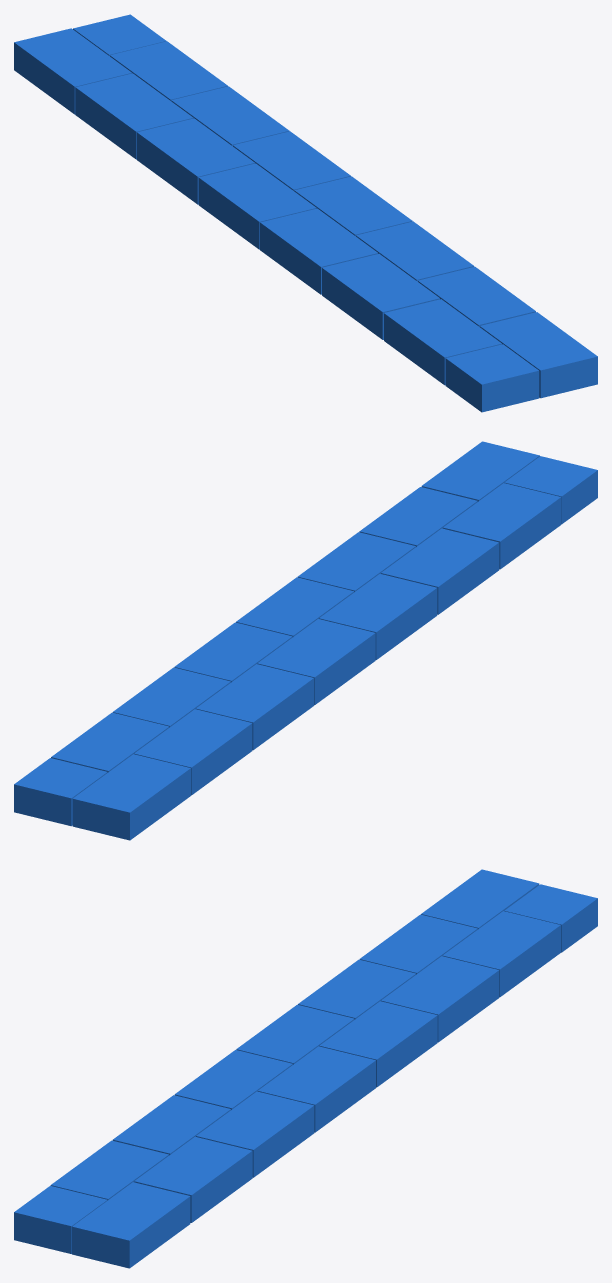
Rendered from platforma za top.fbx.
The picture shows the model from 3 angles, top to bottom: view 1: azimuth 30°, elevation 25°; view 2: azimuth 150°, elevation 25°; view 3: azimuth 330°, elevation 25°; orthographic projection.
Visible parts, largest first — view 1: Cube.037, Cube.039, Cube.035, Cube.041, Cube.043, Cube.045, Cube.047, Cube.034, Cube.013, Cube.036, Cube.038, Cube.040 (+4 smaller); view 2: Cube.047, Cube.035, Cube.037, Cube.039, Cube.041, Cube.043, Cube.045, Cube.048, Cube.046, Cube.034, Cube.036, Cube.038 (+4 smaller); view 3: Cube.034, Cube.036, Cube.038, Cube.044, Cube.040, Cube.042, Cube.046, Cube.013, Cube.037, Cube.039, Cube.047, Cube.035 (+4 smaller).
Part boxes in pixels (box(x1,y1,x2,y2)): Cube.037: box(322, 253, 439, 339); Cube.039: box(260, 208, 378, 294); Cube.035: box(384, 299, 501, 385); Cube.041: box(198, 163, 316, 249); Cube.043: box(137, 118, 255, 204); Cube.045: box(75, 73, 193, 159); Cube.047: box(14, 28, 131, 114); Cube.034: box(479, 312, 597, 398); Cube.013: box(445, 344, 539, 412); Cube.036: box(418, 267, 535, 326); Cube.038: box(356, 221, 474, 281); Cube.040: box(294, 176, 412, 236); Cube.047: box(72, 754, 190, 840); Cube.035: box(443, 483, 561, 569); Cube.037: box(381, 528, 499, 614); Cube.039: box(319, 574, 437, 659); Cube.041: box(257, 619, 375, 705); Cube.043: box(195, 664, 313, 750); Cube.045: box(134, 709, 252, 795); Cube.048: box(14, 758, 107, 826); Cube.046: box(51, 712, 169, 772); Cube.034: box(421, 441, 539, 501); Cube.036: box(359, 487, 477, 546); Cube.038: box(297, 532, 415, 591); Cube.034: box(72, 1182, 190, 1268); Cube.036: box(134, 1136, 252, 1222); Cube.038: box(196, 1091, 314, 1177); Cube.044: box(381, 956, 499, 1042); Cube.040: box(257, 1046, 375, 1132); Cube.042: box(319, 1001, 437, 1087); Cube.046: box(442, 911, 560, 997); Cube.013: box(14, 1186, 107, 1253); Cube.037: box(112, 1095, 230, 1155); Cube.039: box(174, 1050, 292, 1109); Cube.047: box(421, 869, 539, 929); Cube.035: box(50, 1140, 168, 1200).
Size of the model in its own units: 415 by 96.17 by 2894.
